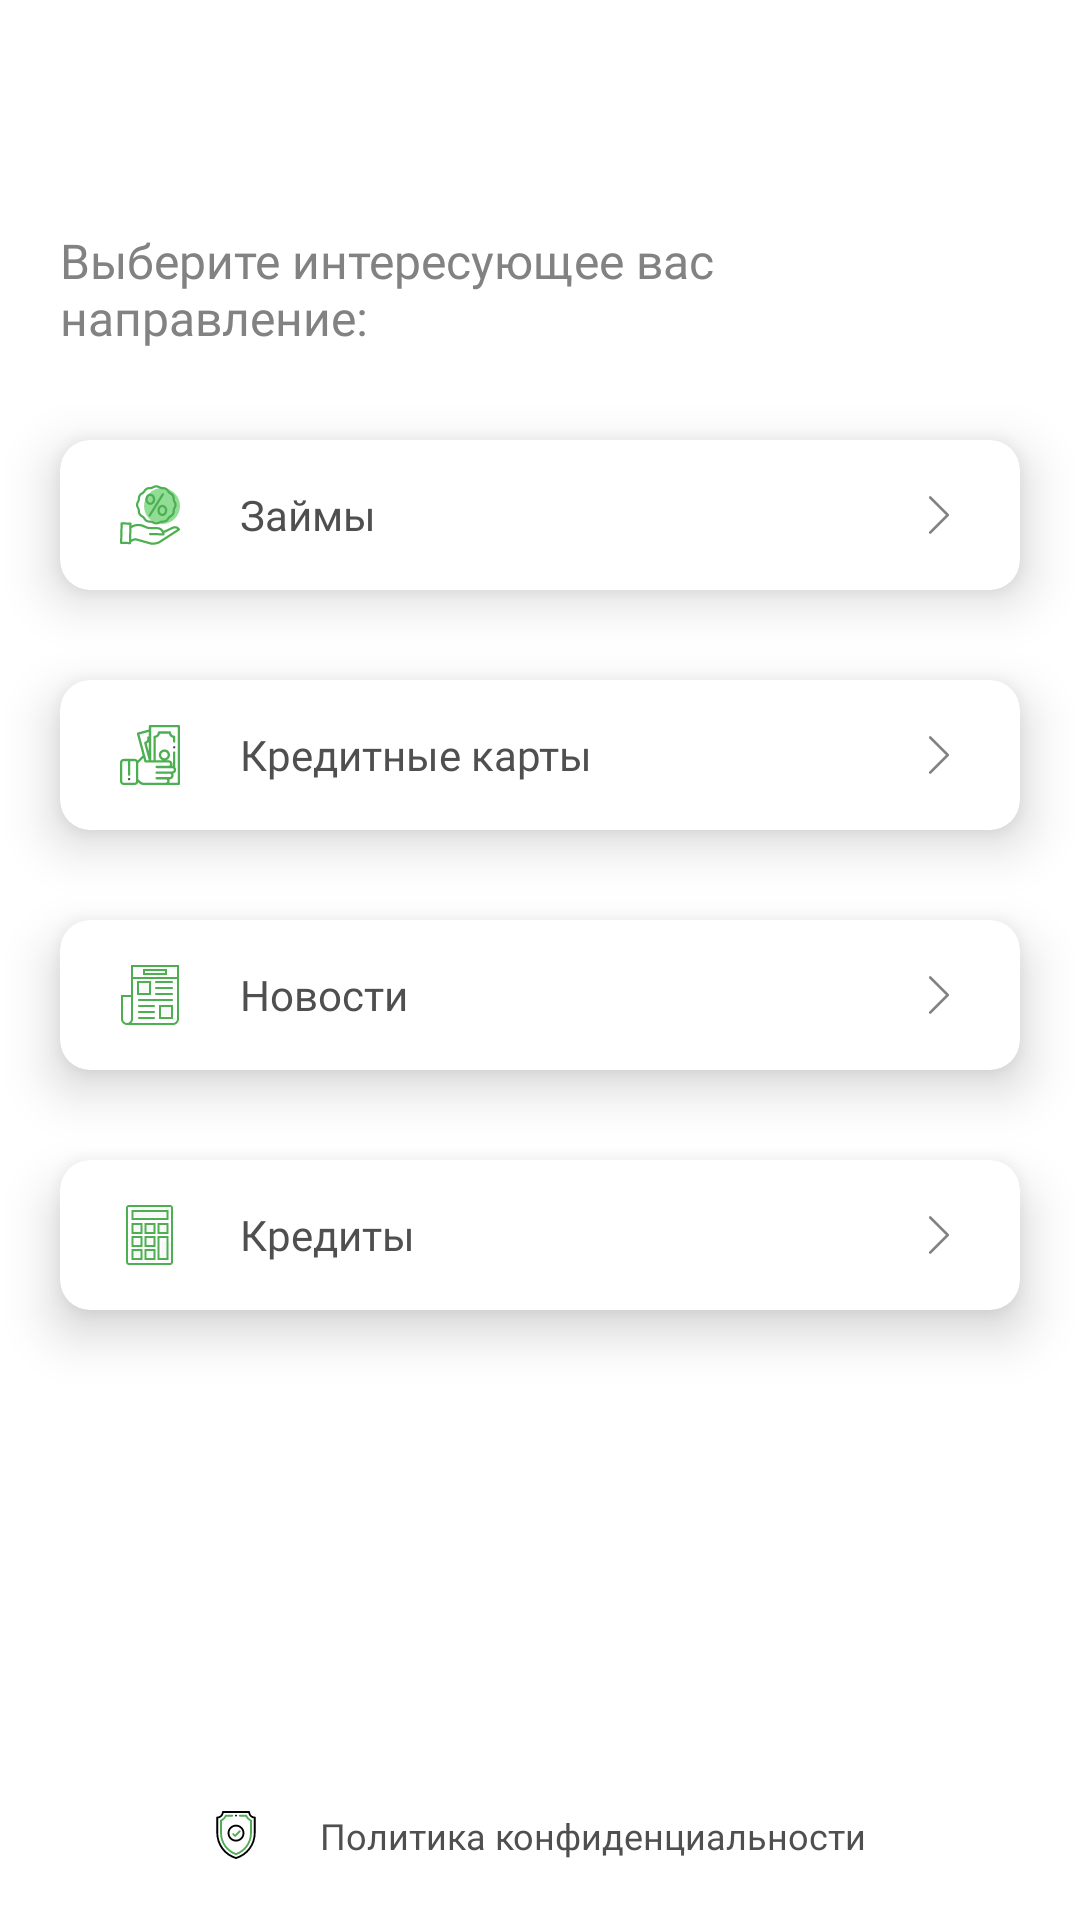

Point at icon controls on the screen. Image size 1080px x 1920px, points as point (x, y).
calculator: point (149, 1235)
money: point (150, 755)
newspaper: point (150, 995)
offer: point (150, 515)
right arrow: point (939, 515), point (939, 755), point (939, 995), point (939, 1235)
shield: point (236, 1835)
